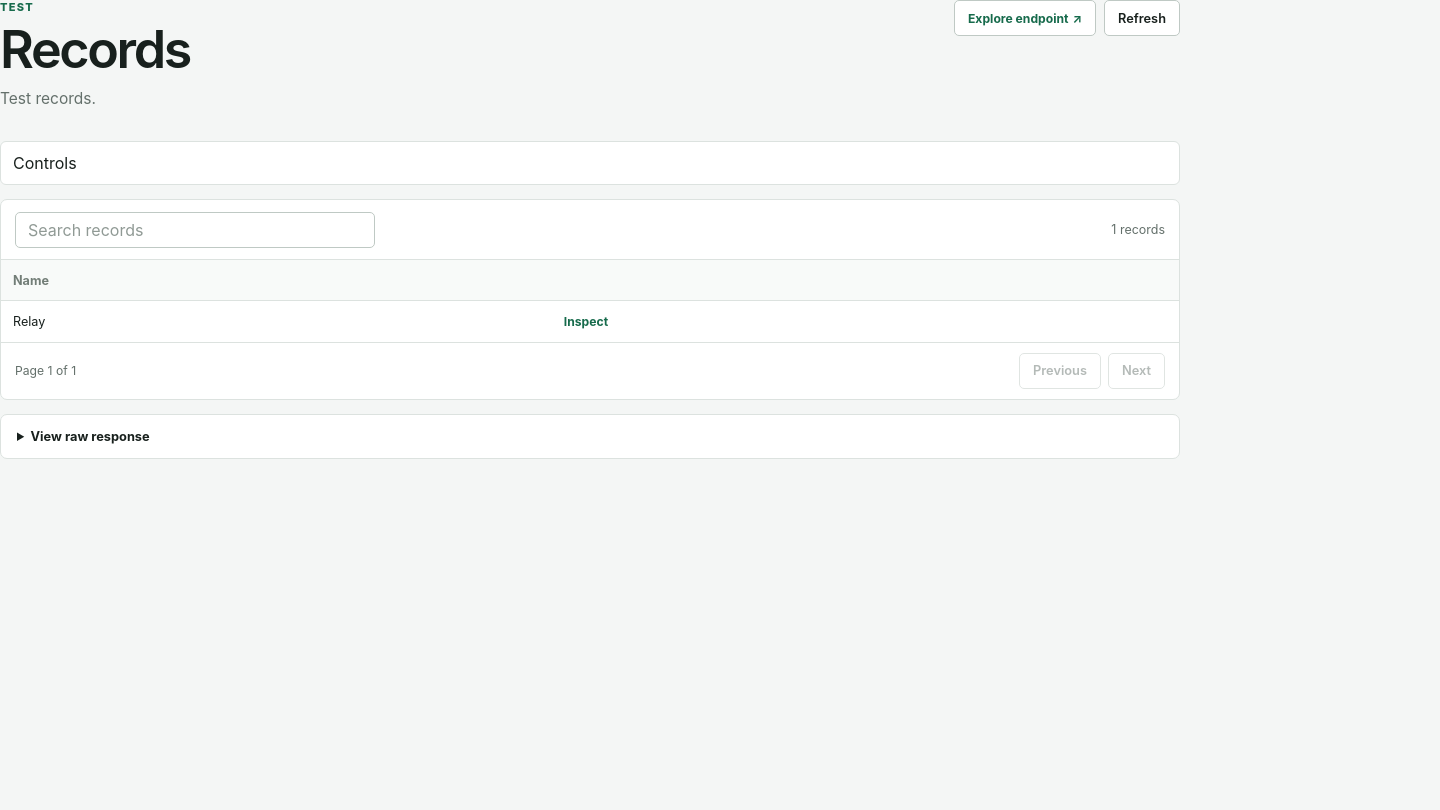
Test: shared explorer components › composes resource loading, detail, refresh, and raw response behavior
Click the button "Refresh": (1142,18) [1104,0,1180,36]
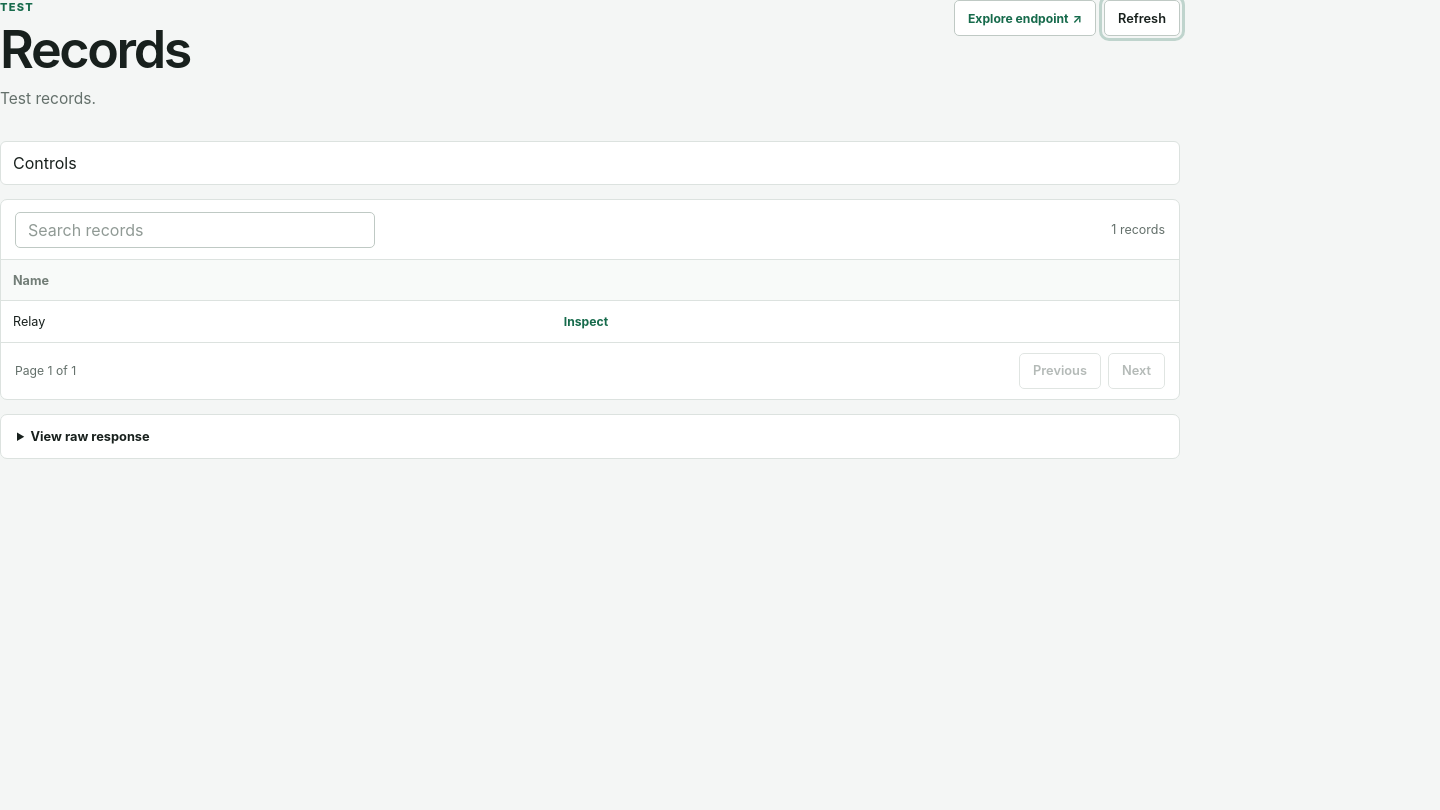
Click the button "Inspect": (586,321) [564,312,608,331]
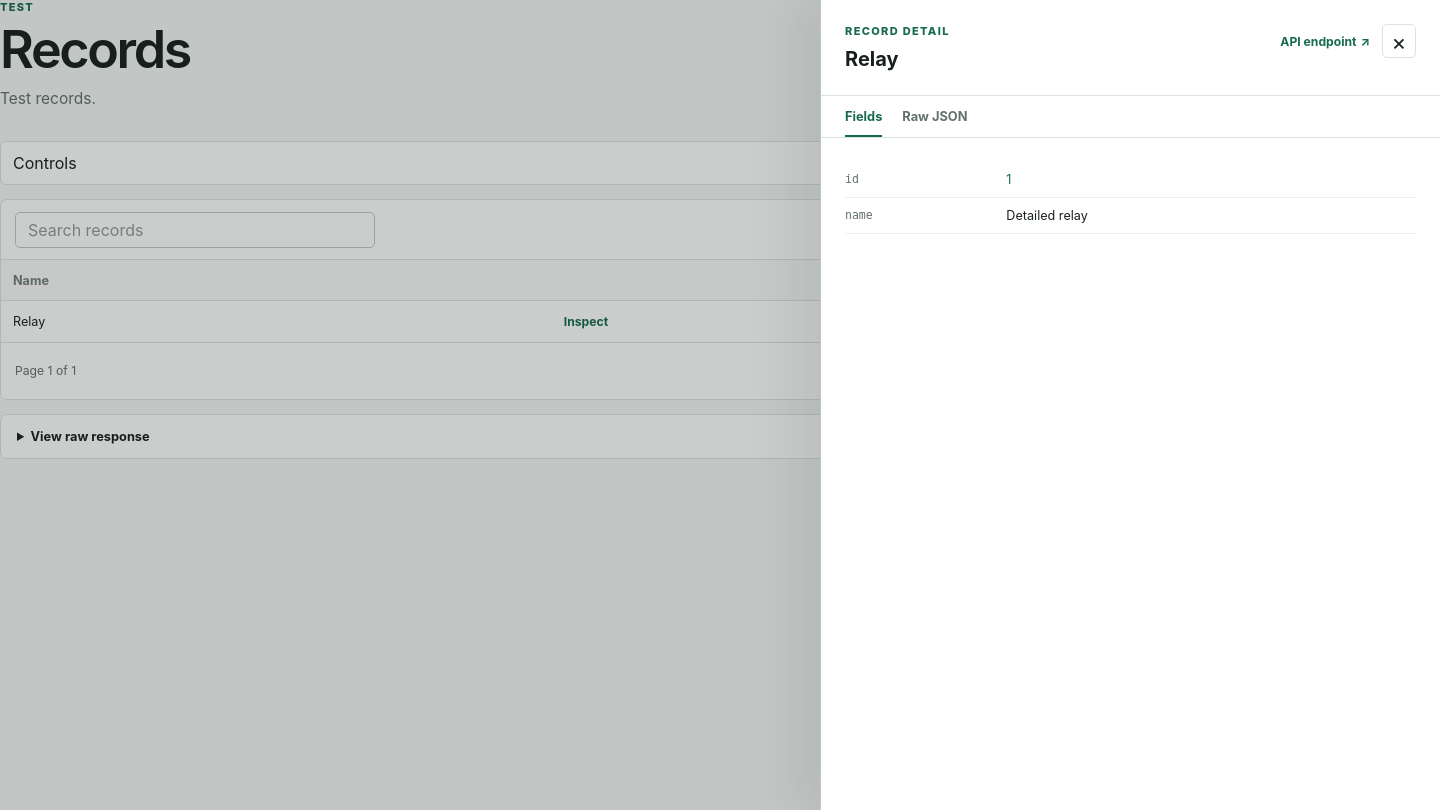
Expected: the text "Detailed relay" is shown, [1006,208,1088,223]
Click the button named "Close details": (1399,41) [1382,24,1416,58]
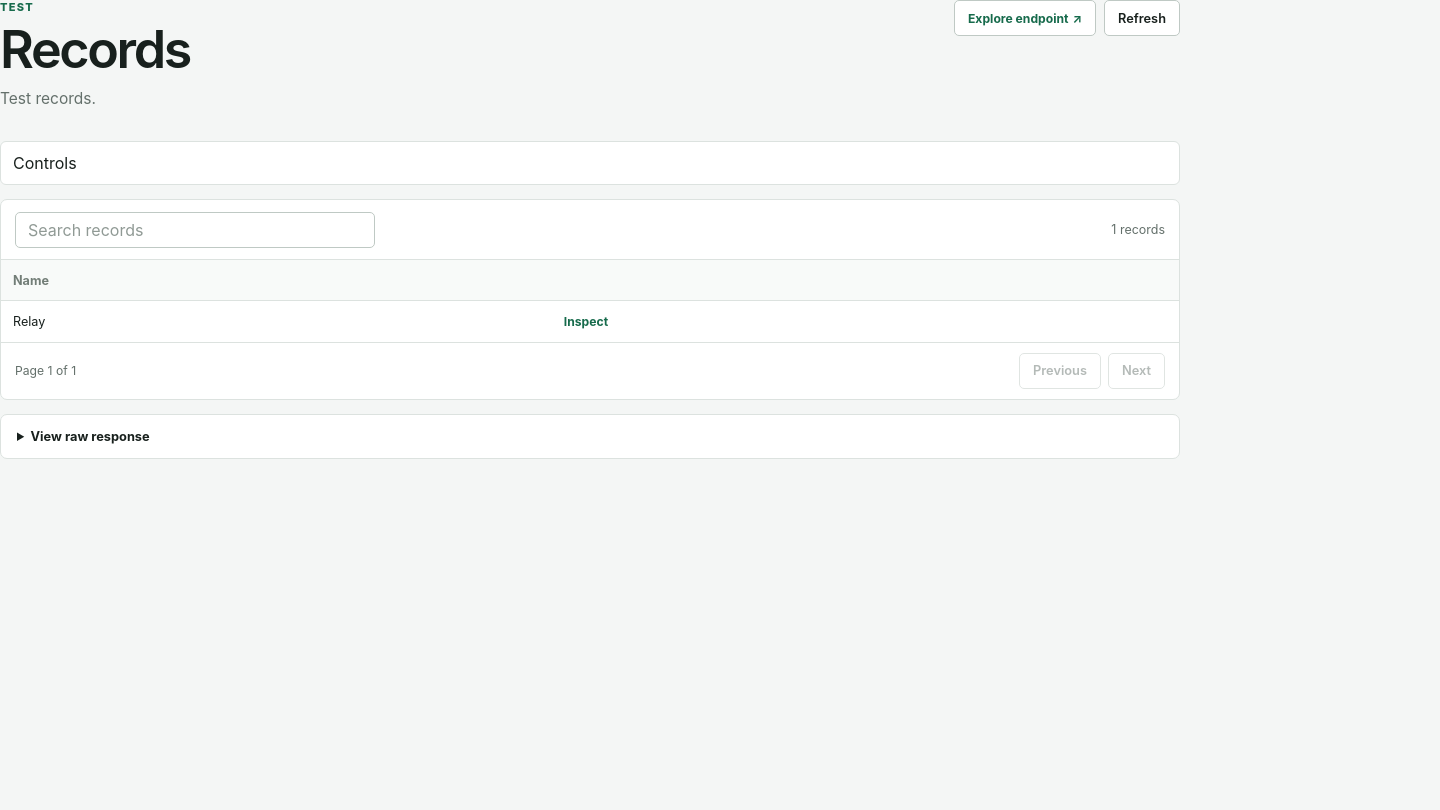
Click the heading "View raw response": (90,436) [30,429,150,444]
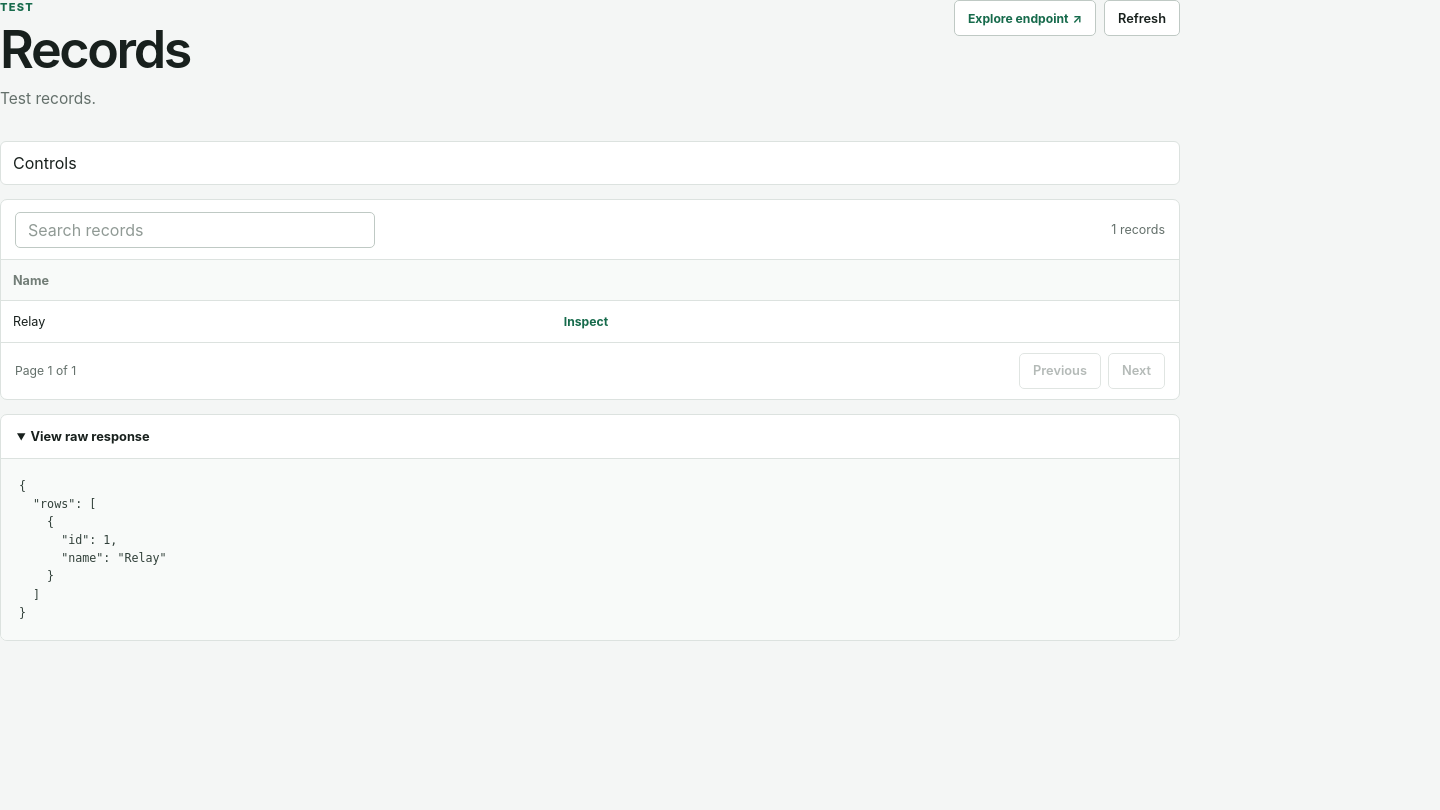
Expected: the text "Controls" is shown, [13,153,77,173]
Expected: the text with test id "json-view" shows "\"rows\"", [19,479,167,620]
